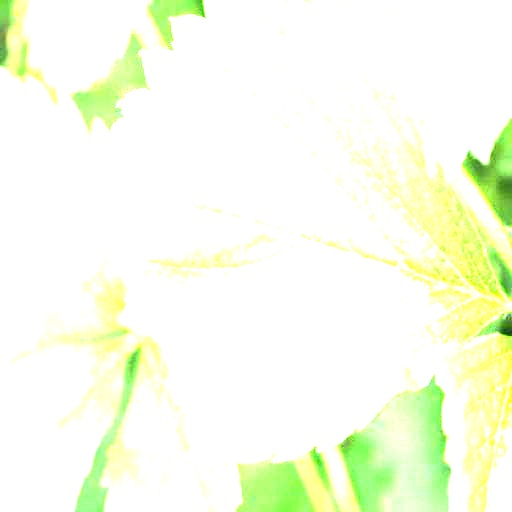Powdery Mildew Leaf: (98, 0, 511, 464)
